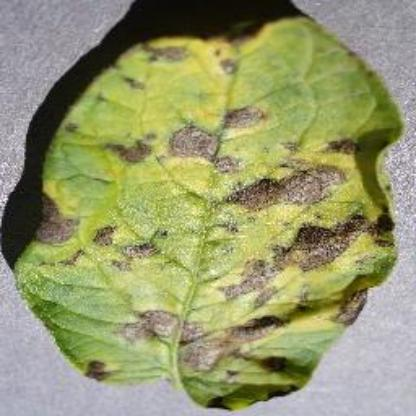Early-Blight: (10, 9, 416, 411)
